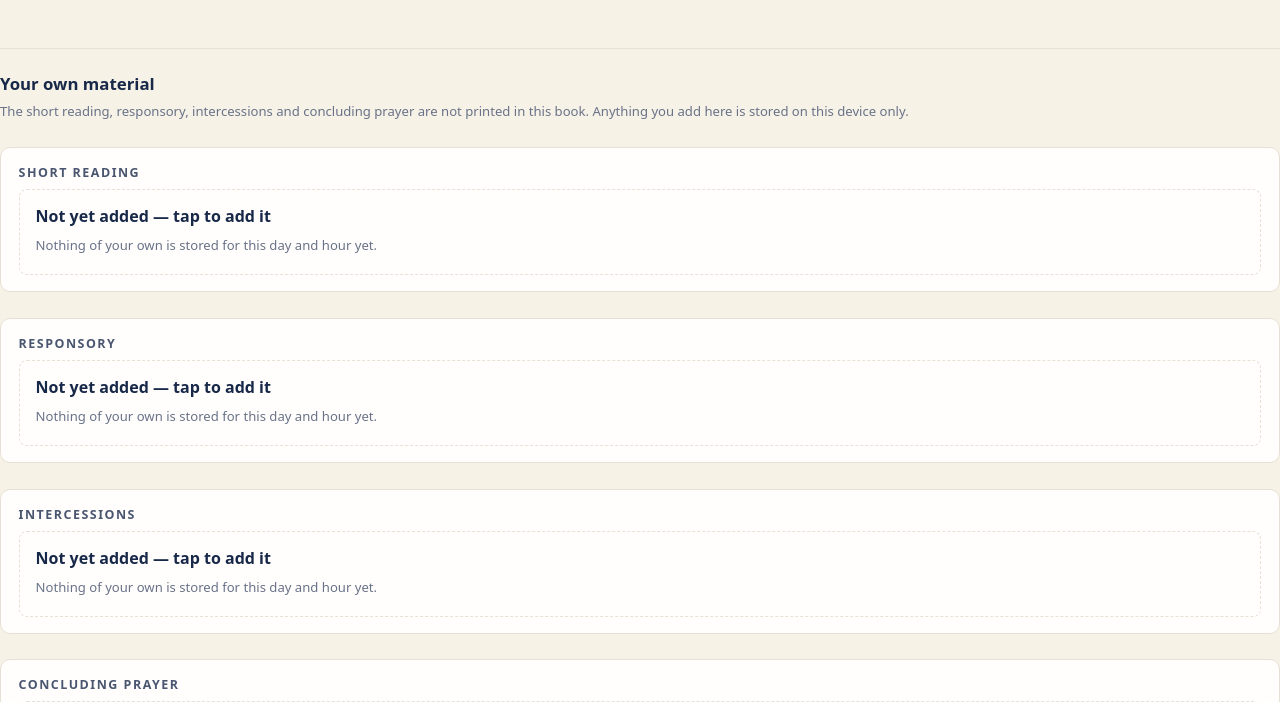
Test: 2: each section can be added and appears at once › marks what is shown as the reader’s own
Click the button with aria-label "Add the responsory" at (153, 387), box [19,360,1261,446]
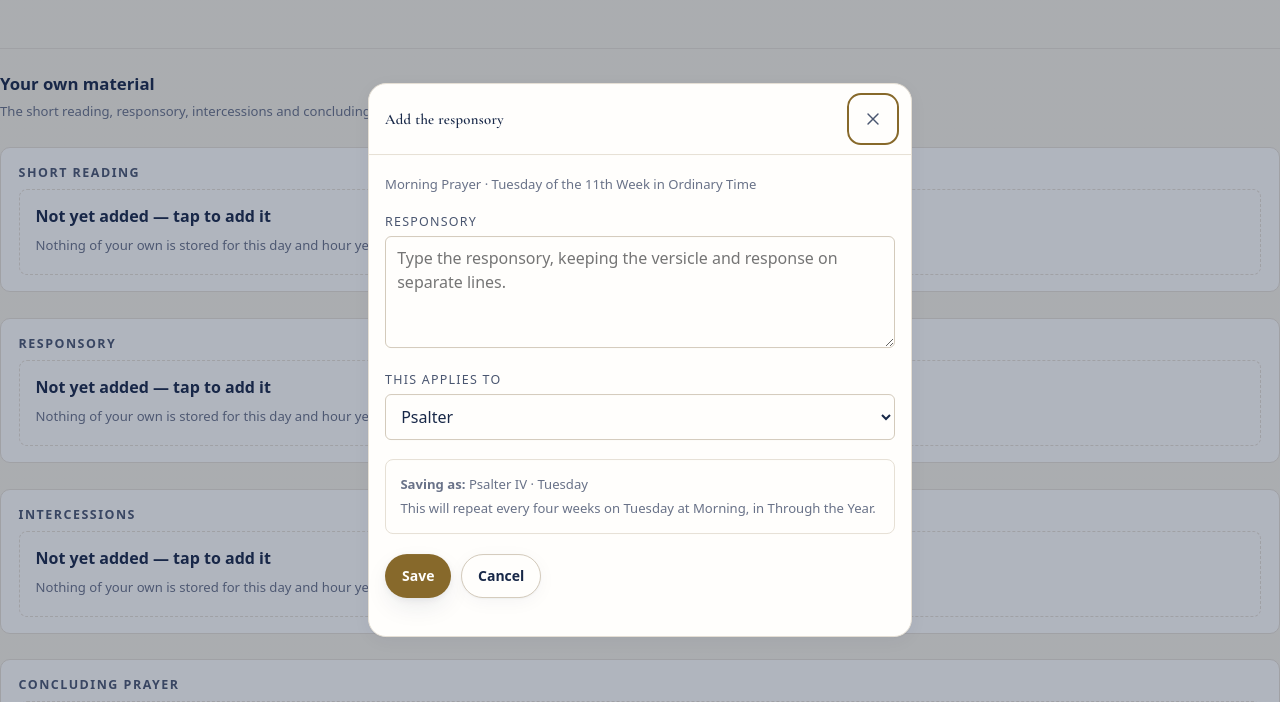
Replace the text in the text box labelled "Responsory" with "V. Mine." at (640, 292), box [385,236,895,348]
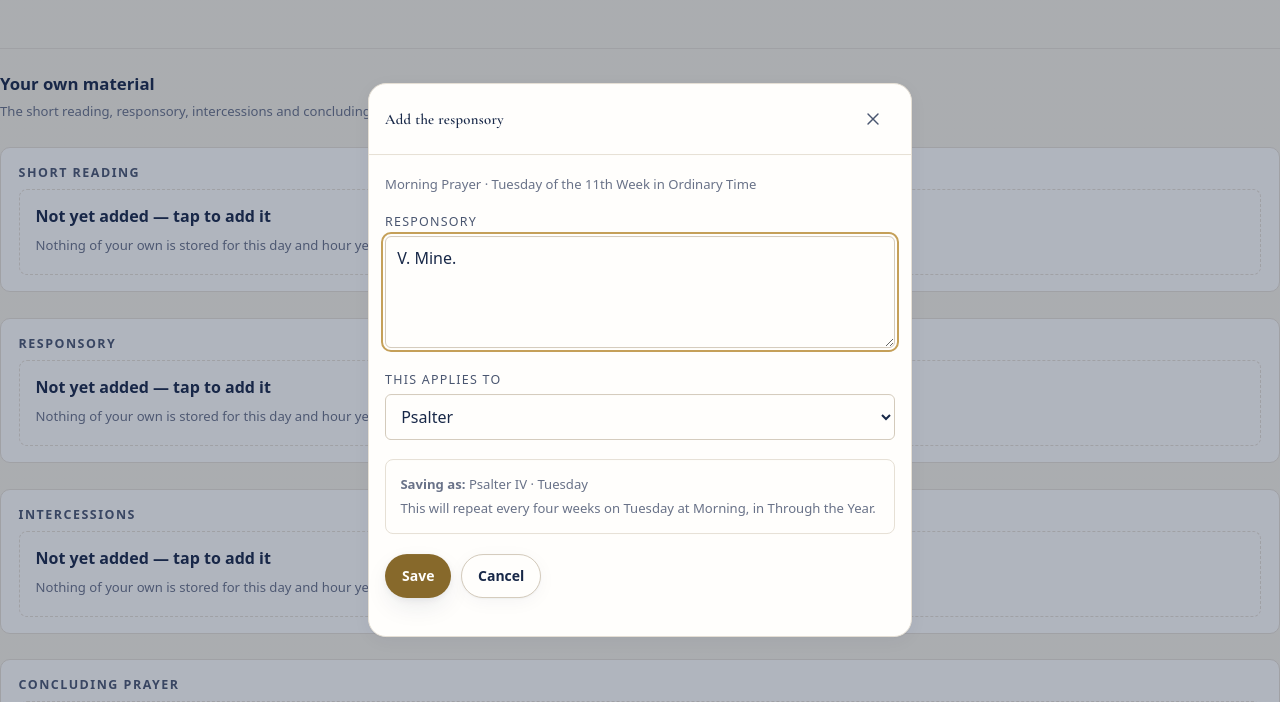
Click the button "Save" at (418, 576), box [385,554,451,598]
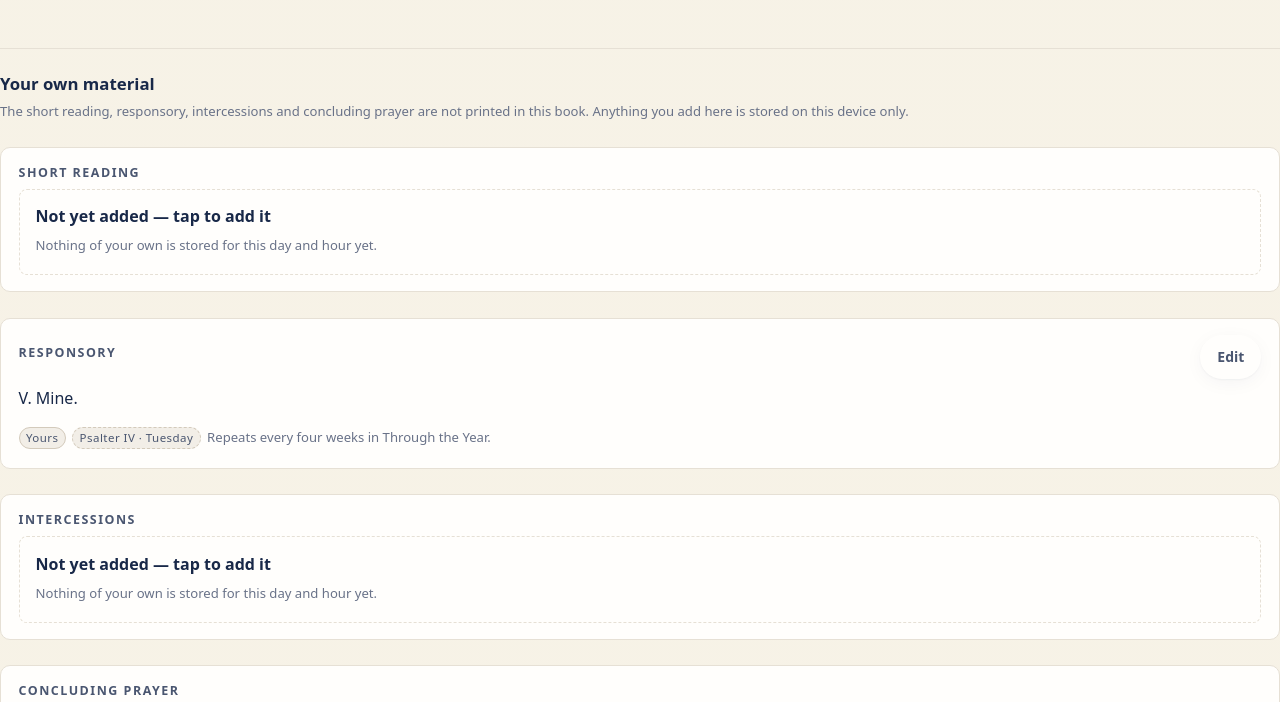
Expected: the text "Yours" is shown, [19,427,66,449]
